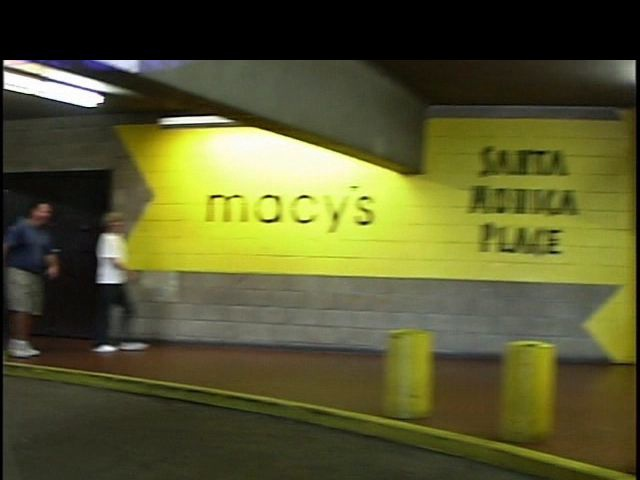person: (75, 202, 153, 368), (6, 190, 61, 359)
